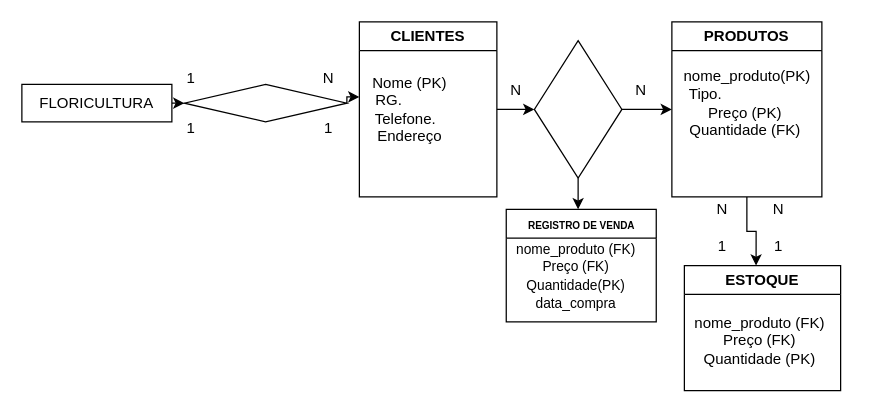
Some shapes in this 894 by 413 pixel diagram are drawn without their labels. The centre of each missing label's shape, as x and y in pixels:
CADASTRO: (265,102)
COMPRA: (577,108)
